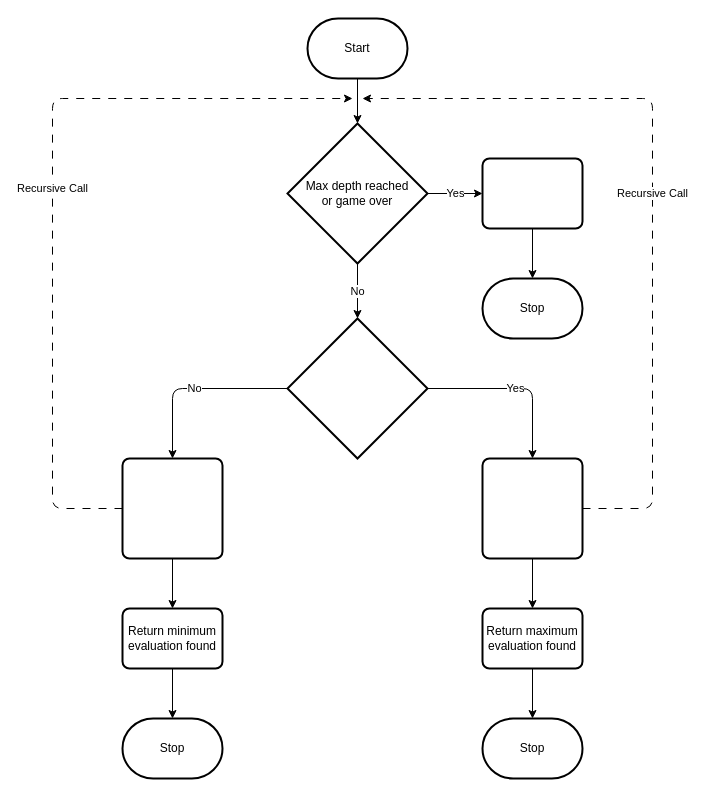
This 705x796 diagram has some shape labels left out. Each missing label, with the centre of its shape:
"Find max evaluation for every child position" belongs at [532,508].
"Find min evaluation for every child position" belongs at [172,508].
"Is Maximising Player (is white)" belongs at [357,388].
"Return static evaluation of position" belongs at [532,193].
